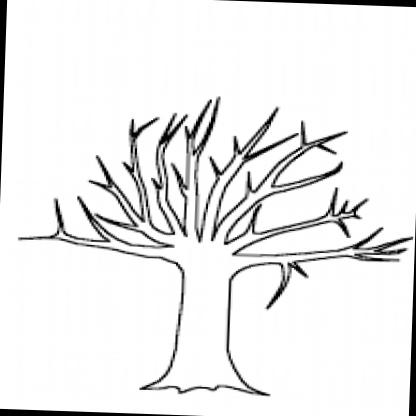branch_sharp: (14, 90, 416, 314)
root_only: (136, 372, 272, 412)
trunk_straight: (172, 276, 234, 364)
